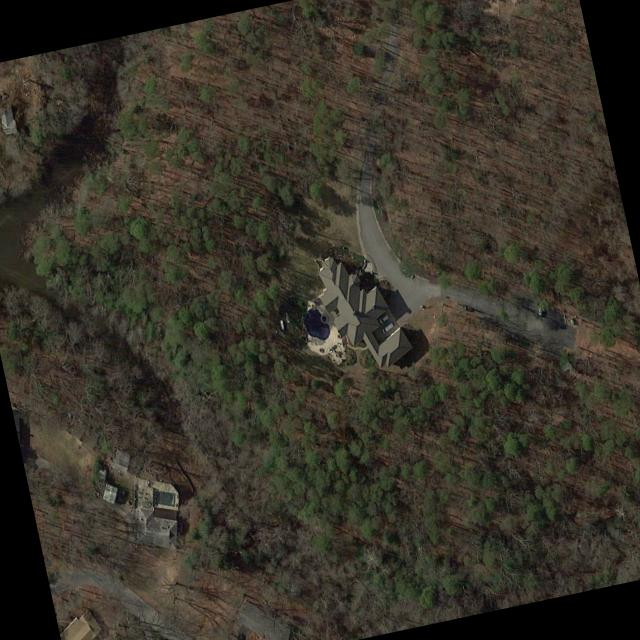small-vehicle: (402, 267, 415, 279), (380, 320, 393, 332), (377, 311, 390, 323), (536, 302, 544, 315), (236, 631, 245, 640)
